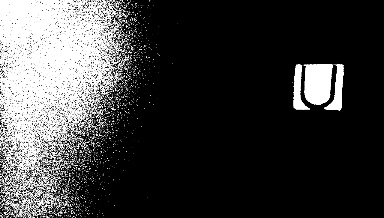U: (296, 62, 339, 106)
